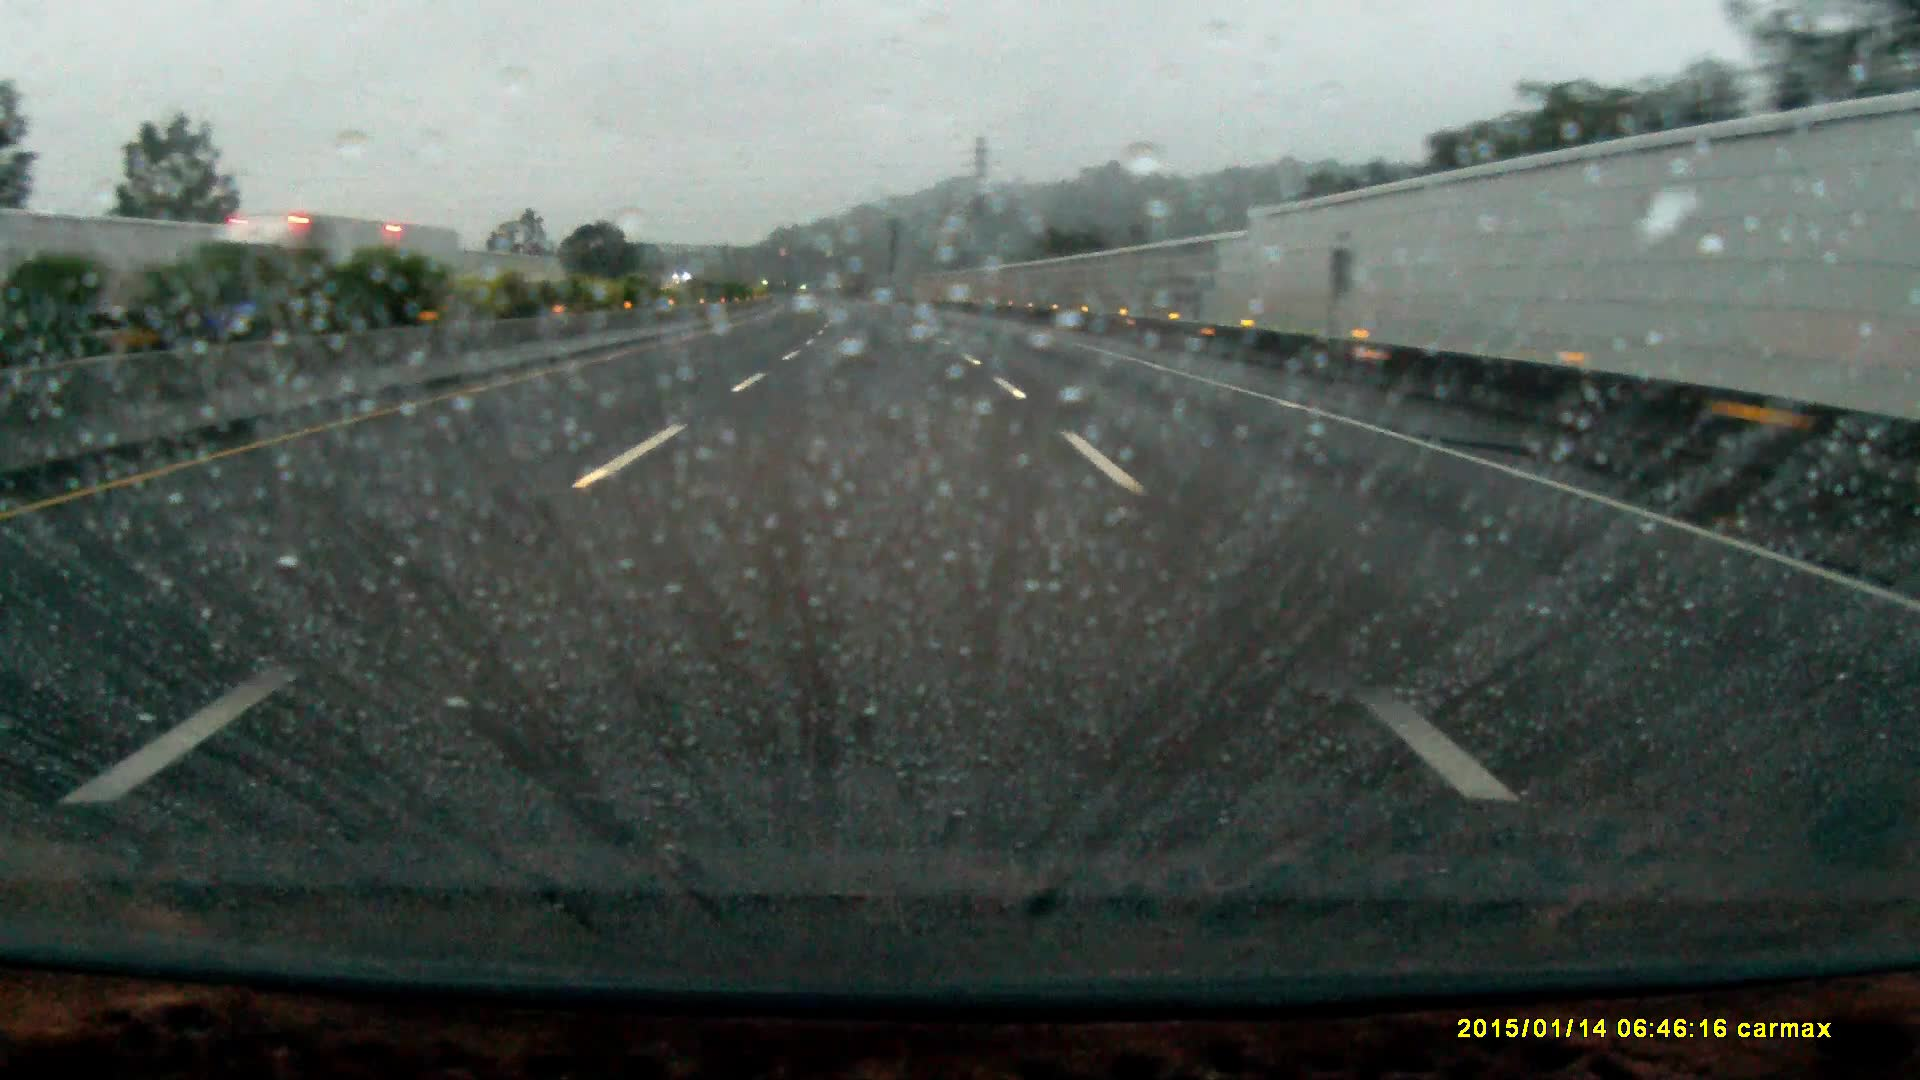vehicle: (195, 218, 472, 330)
